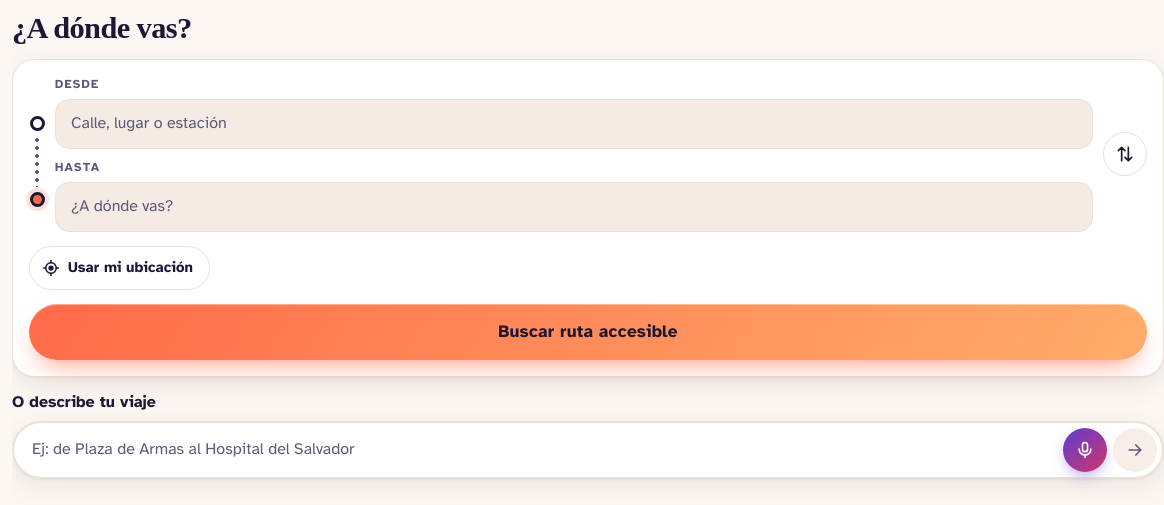
SearchForm › swaps origin and destination
Click the button "Usar mi ubicación" at (119,268), box x1=29 y1=246 x2=210 y2=290
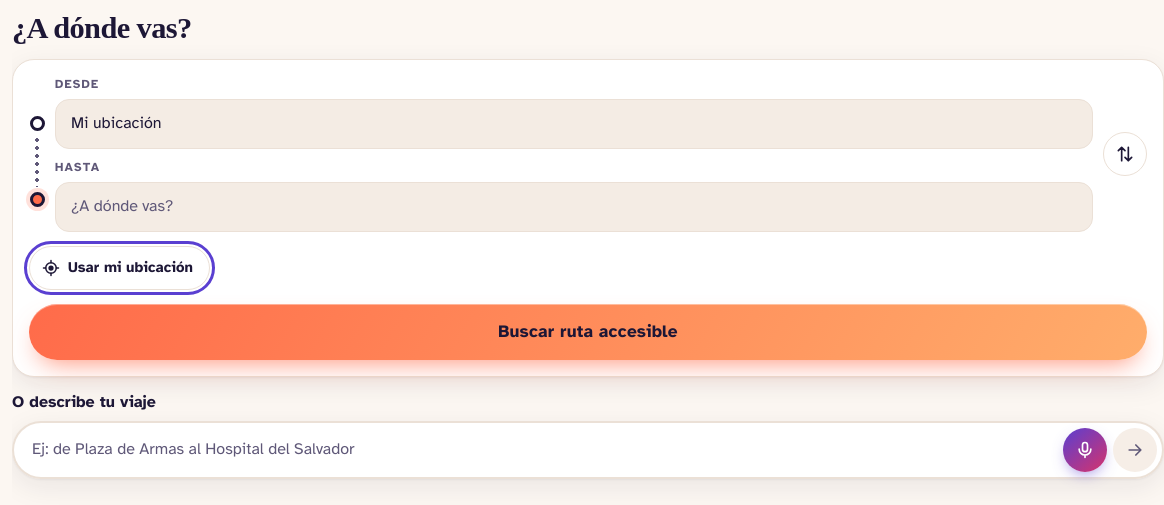
Click the button named "Intercambiar origen y destino" in the row of "Hasta" at (1125,154), box x1=1103 y1=132 x2=1147 y2=176
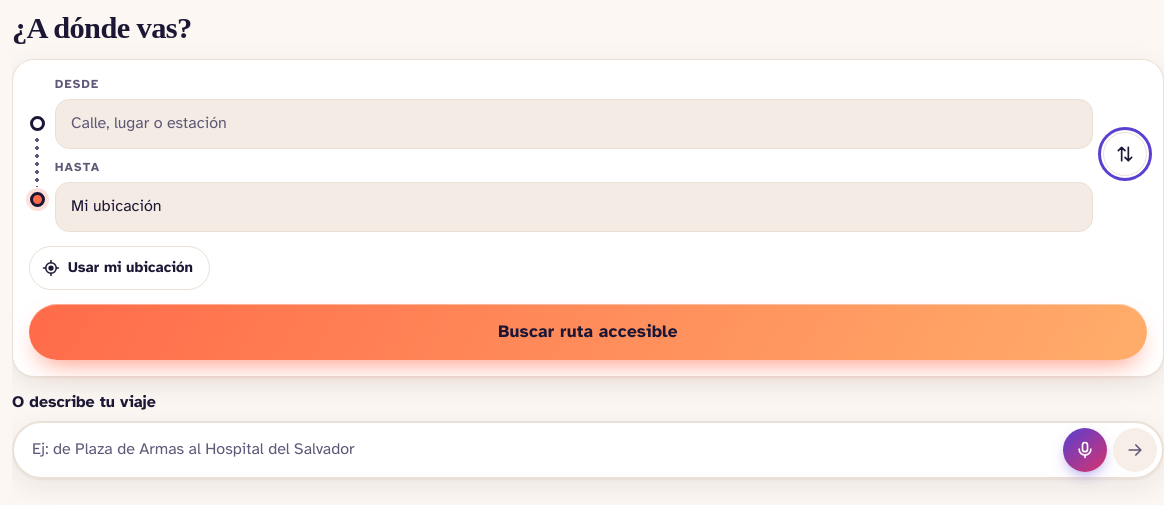
Result: the dropdown labelled "Hasta" holds "Mi ubicación" at x1=55 y1=182 x2=1093 y2=232
Result: the dropdown labelled "Desde" is empty at x1=55 y1=99 x2=1093 y2=149
